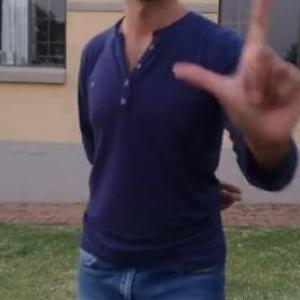land_hand: (167, 0, 300, 153)
